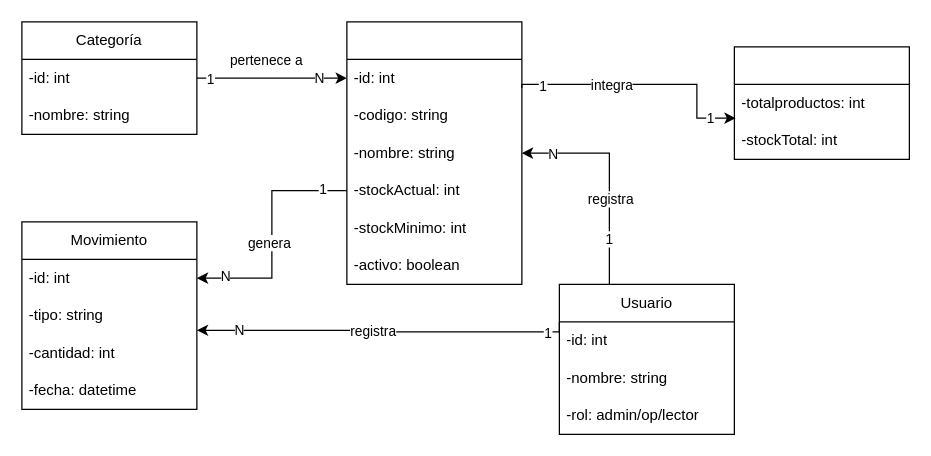
Image size: 931x456. Some labels were removed from this diagram. The shapes that lost their labels are listed below. From the top down, each one's box as (x1, y1, x2, y2) in pixels, then its label:
(733, 46, 909, 159): Inventario
(346, 21, 522, 284): Producto
